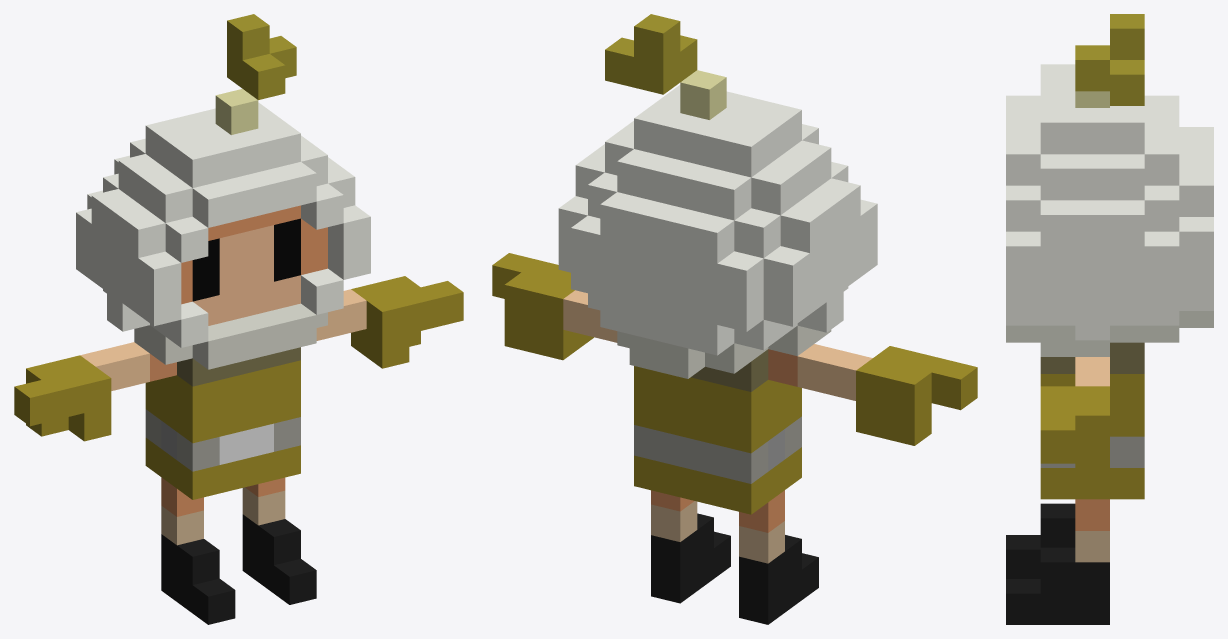
Rendered from yellow1.obj.
3 views of the same model, side by side, from view 1: azimuth 30°, elevation 25°; view 2: azimuth 150°, elevation 25°; view 3: azimuth 270°, elevation 25° (orthographic). The views are drawn at different scales.
Bounding box in the file's own units: 16 × 19 × 6.
